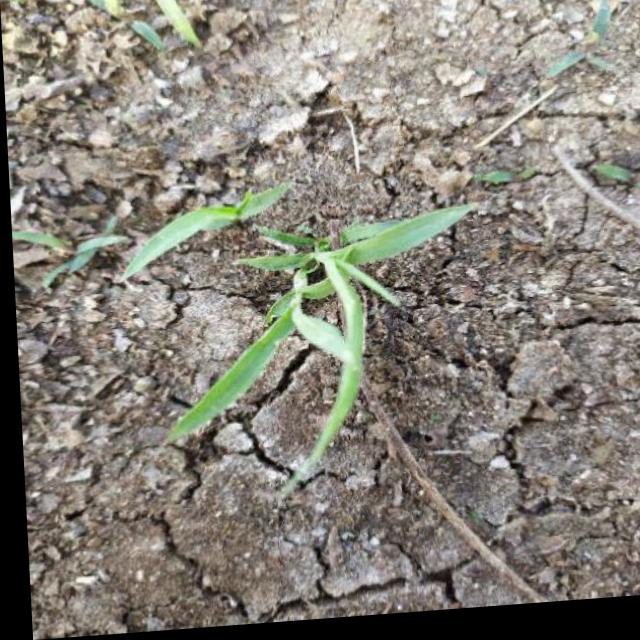weed: (120, 186, 502, 508)
